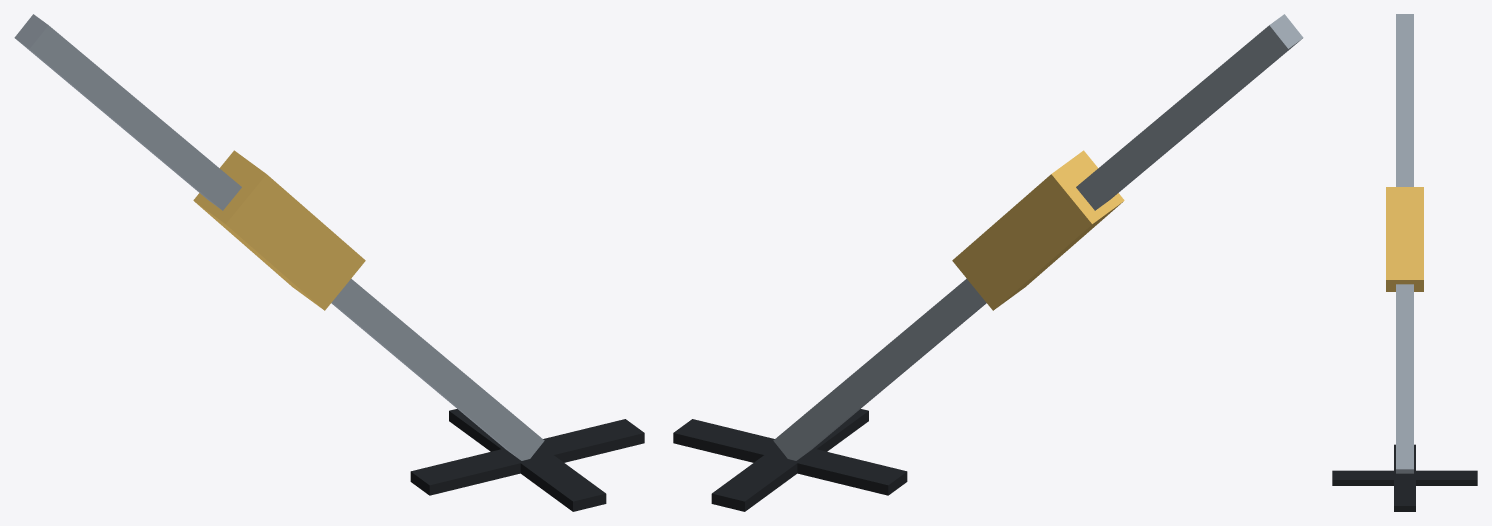
File: env_carrier_tiedown.fbx
3 renders of one model, left to right at view 1: azimuth 30°, elevation 25°; view 2: azimuth 150°, elevation 25°; view 3: azimuth 270°, elevation 25°, orthographic. The views are drawn at different scales.
Parts seen in each view (by area): view 1: env_carrier_tiedown; view 2: env_carrier_tiedown; view 3: env_carrier_tiedown.
Boxes of the visible parts, box(x1,y1,x2,y2) form: env_carrier_tiedown: box(14, 14, 644, 511); env_carrier_tiedown: box(673, 14, 1303, 511); env_carrier_tiedown: box(1332, 14, 1477, 511).
Bounding box in the file's own units: 371 × 325 × 130.
